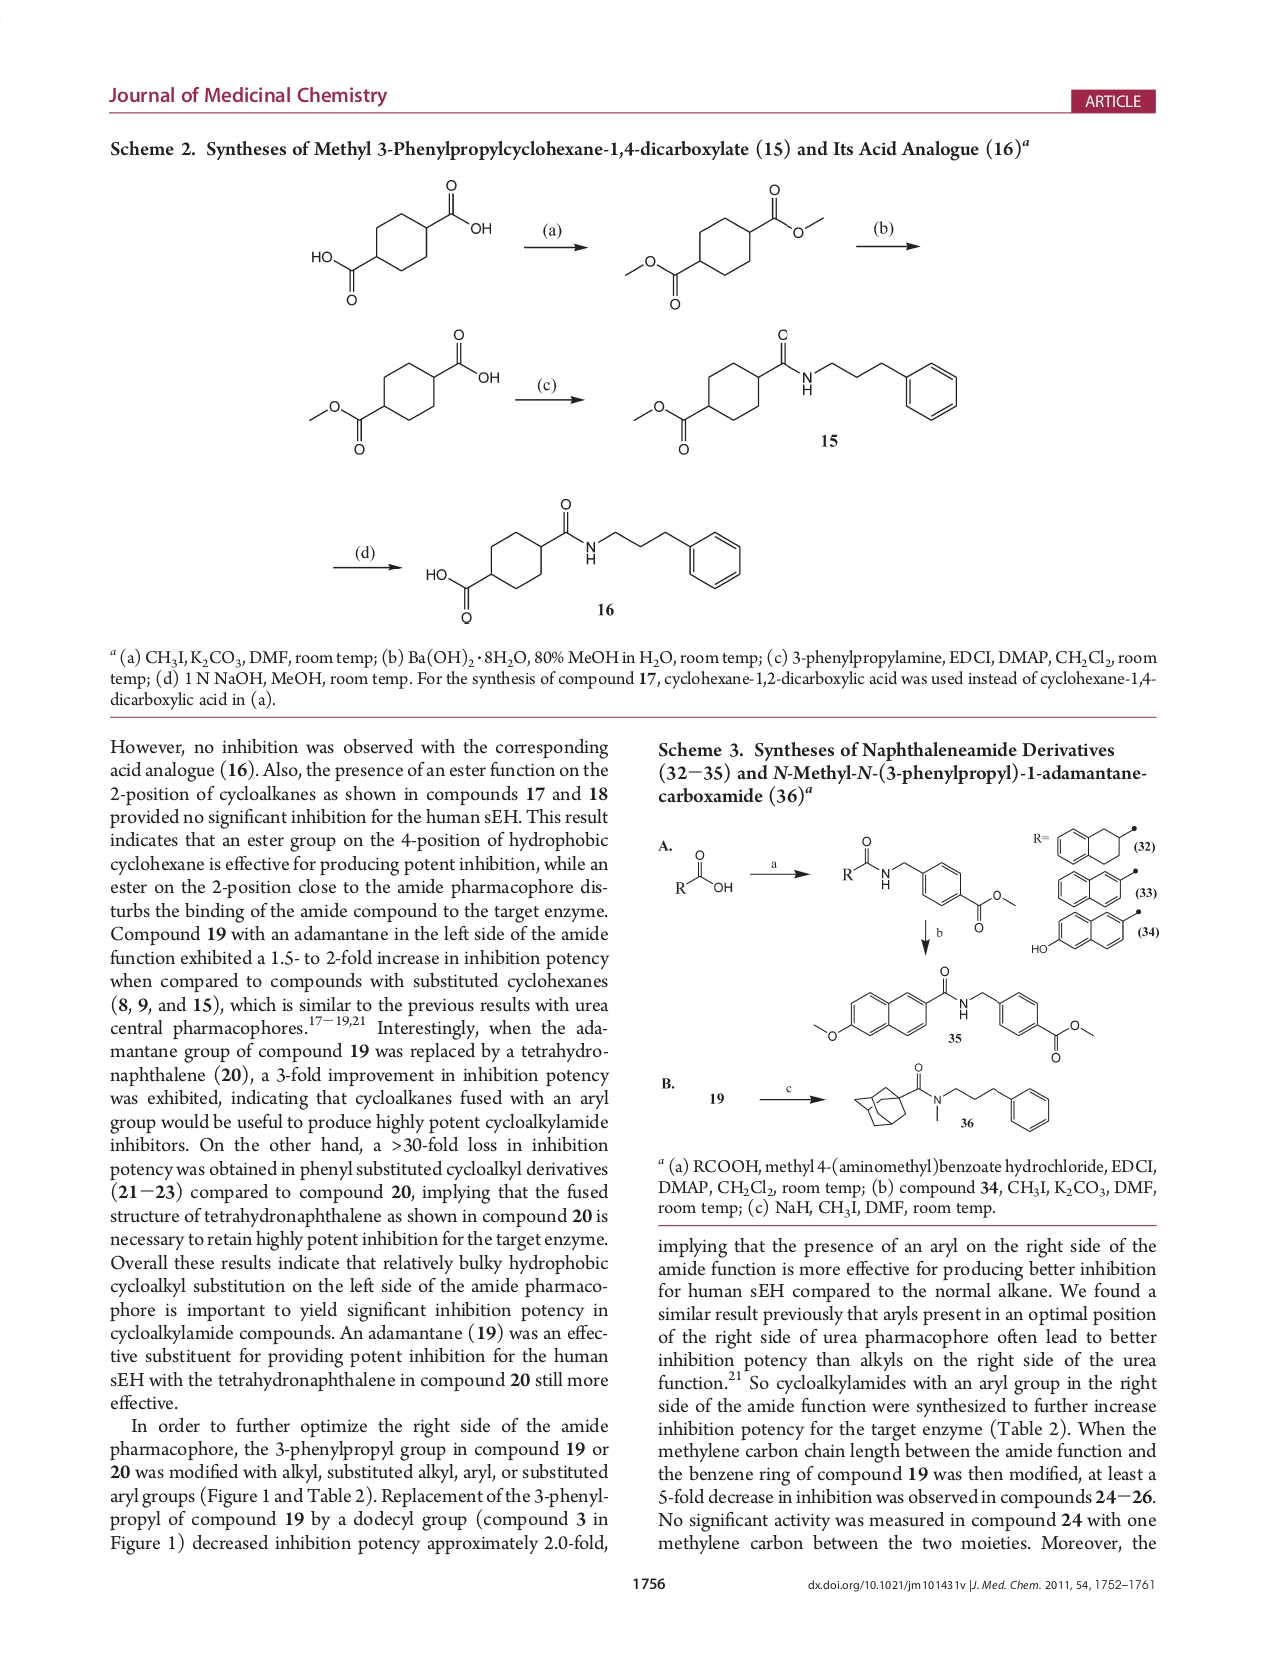exist_molecular: (629, 326, 960, 455), (423, 495, 743, 626), (809, 963, 1096, 1063), (622, 184, 824, 313), (307, 326, 501, 457), (309, 176, 493, 309), (838, 829, 1019, 936), (848, 1063, 1053, 1136), (1027, 910, 1148, 958), (670, 847, 737, 902), (1055, 868, 1141, 910), (1053, 825, 1138, 864)
